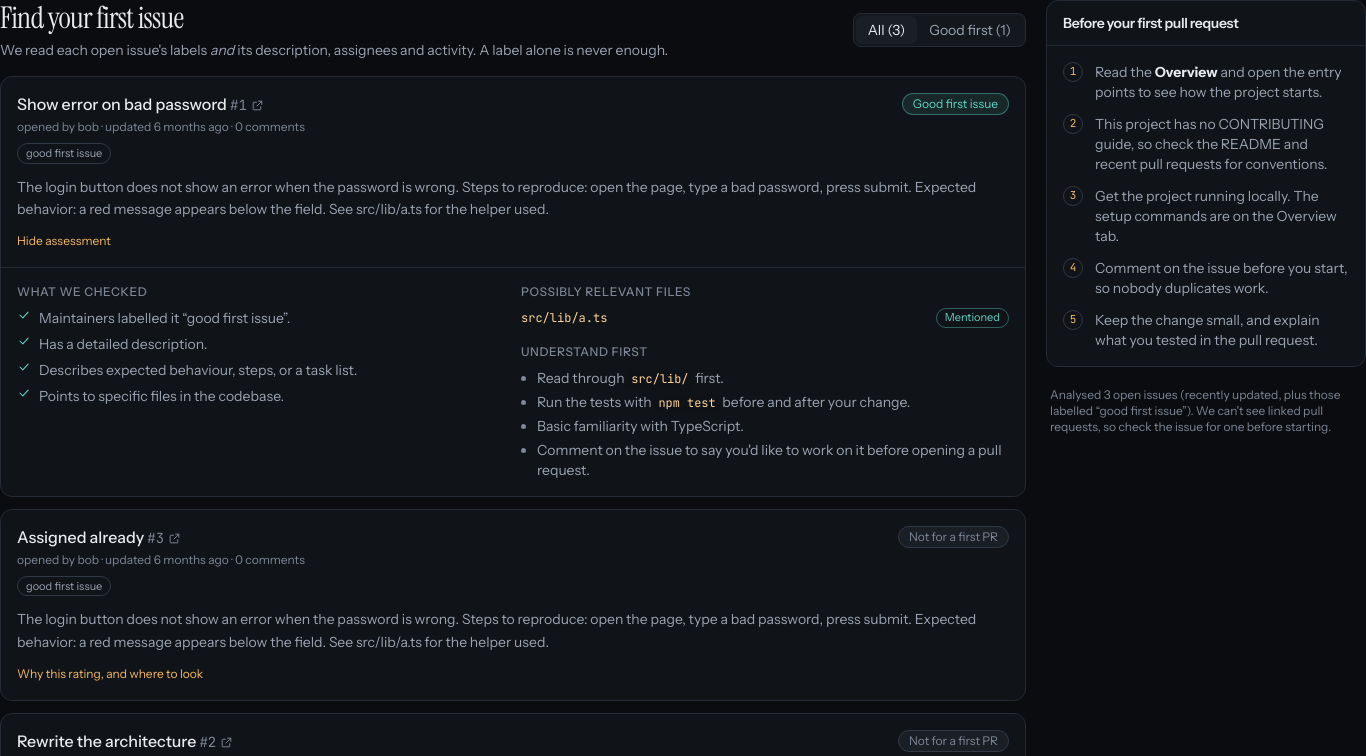
Test: ContributePanel › filters to good first issues
This screenshot has width=1366, height=756.
What coordinates should you click on to do the following:
click the button "Good first (1)"
I would click on:
 (970, 30)
Its box is [917,16,1023,44].
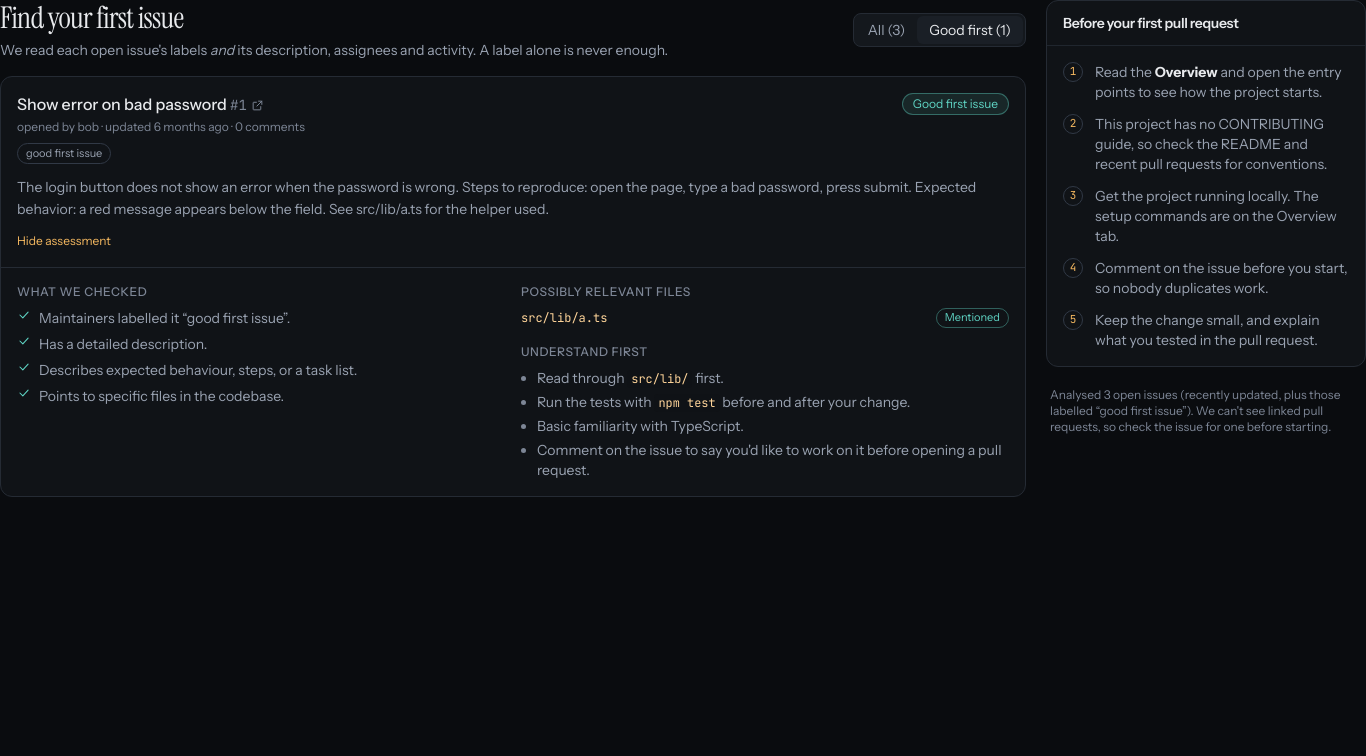
Expected: the heading "Show error on bad password #1" is shown, [17,94,264,114]
Expected: the link "Rewrite the architecture" is gone
